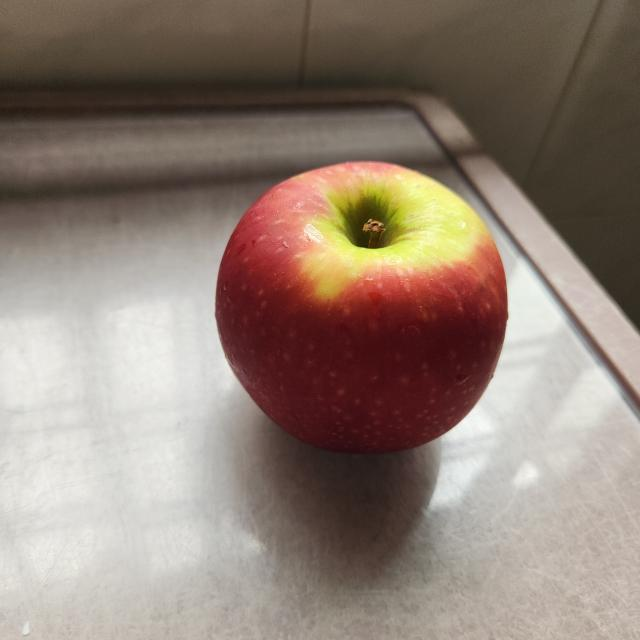apple: (208, 154, 516, 468)
